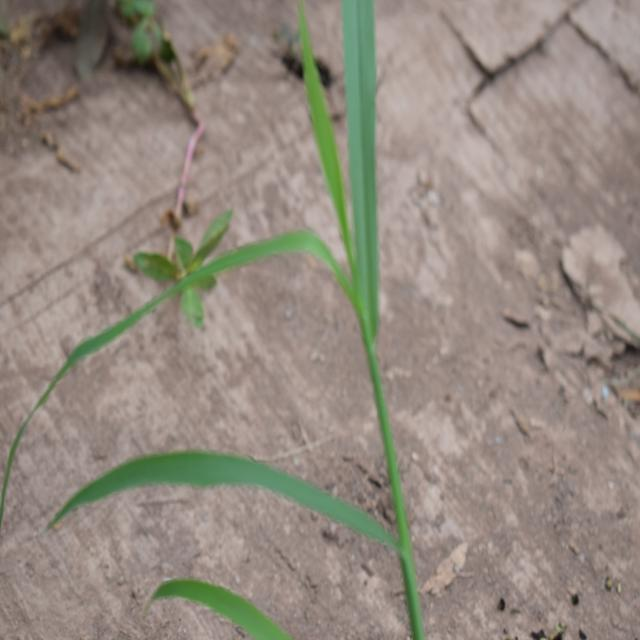crabgrass: (33, 1, 448, 584)
